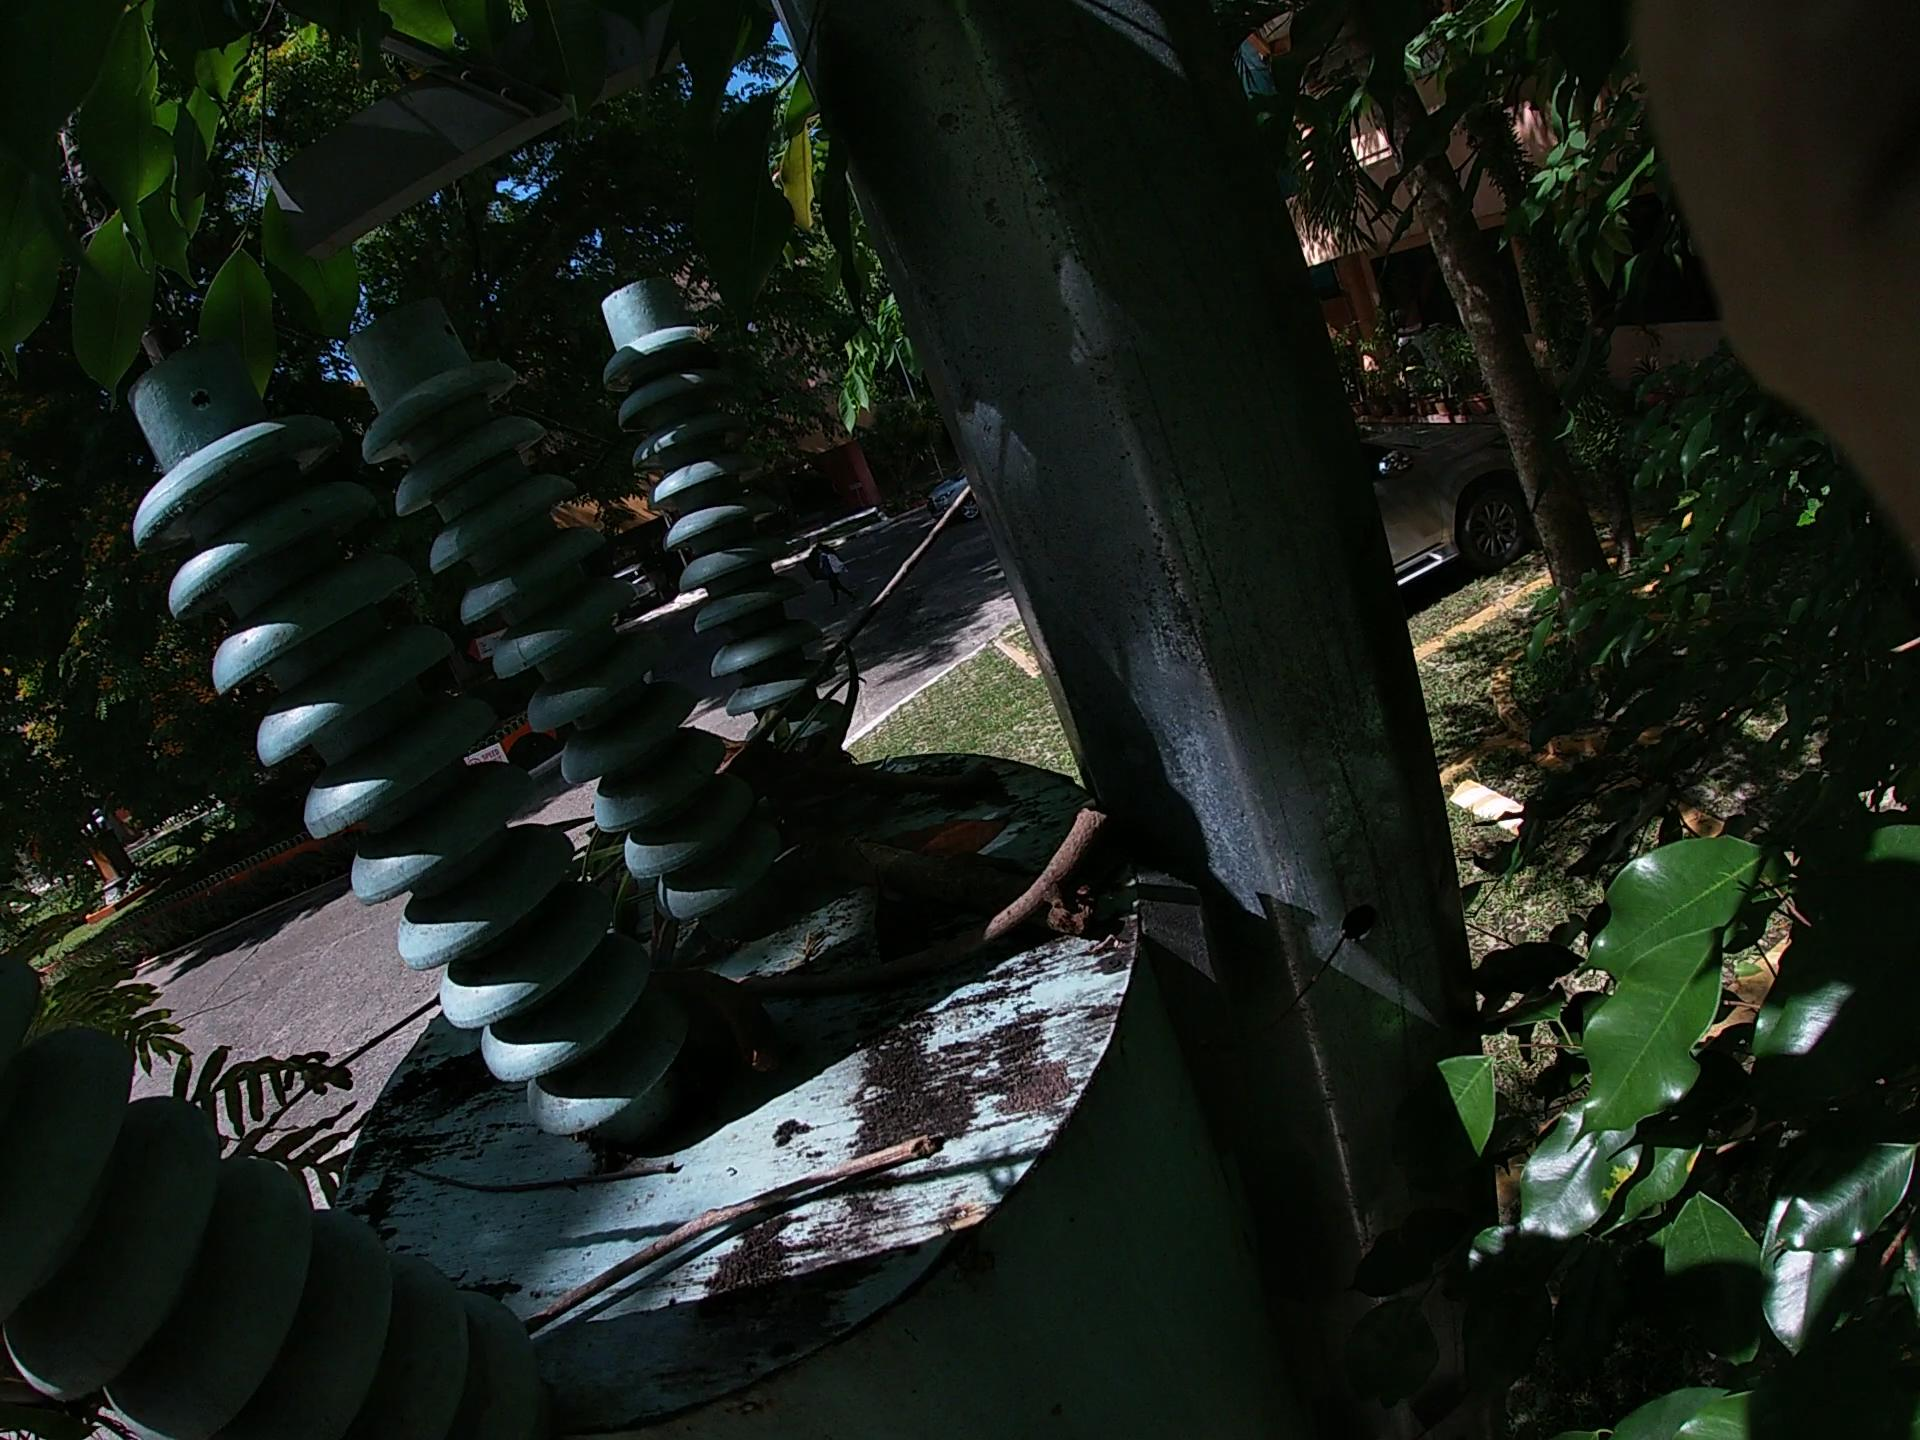branch with leaves: (469, 616, 801, 1013)
mahogany fruit: (614, 917, 794, 1113)
tree branch: (225, 520, 990, 1122), (732, 802, 1290, 1062), (443, 1131, 943, 1393)
